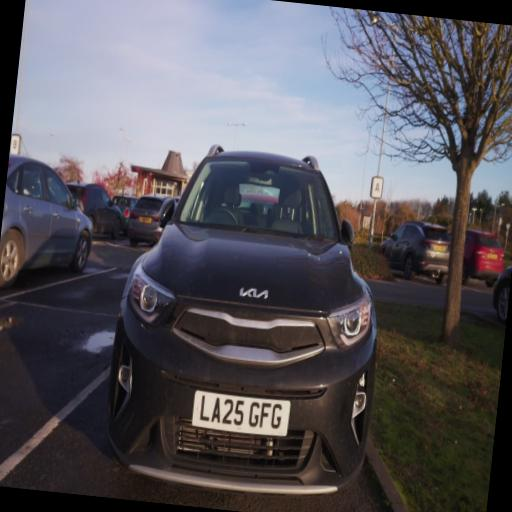numberplates: (192, 391, 290, 436), (435, 246, 446, 252), (140, 217, 151, 223), (487, 253, 497, 259)
